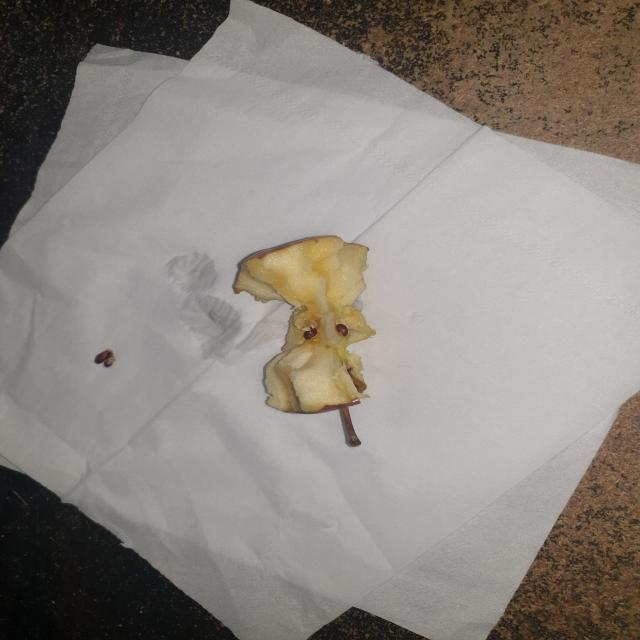apple: (226, 228, 419, 454)
